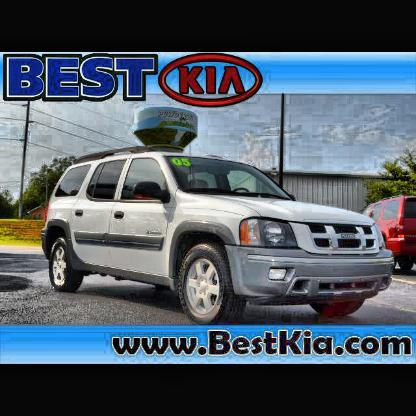Isuzu Ascender SUV 2008: (40, 146, 396, 329)
